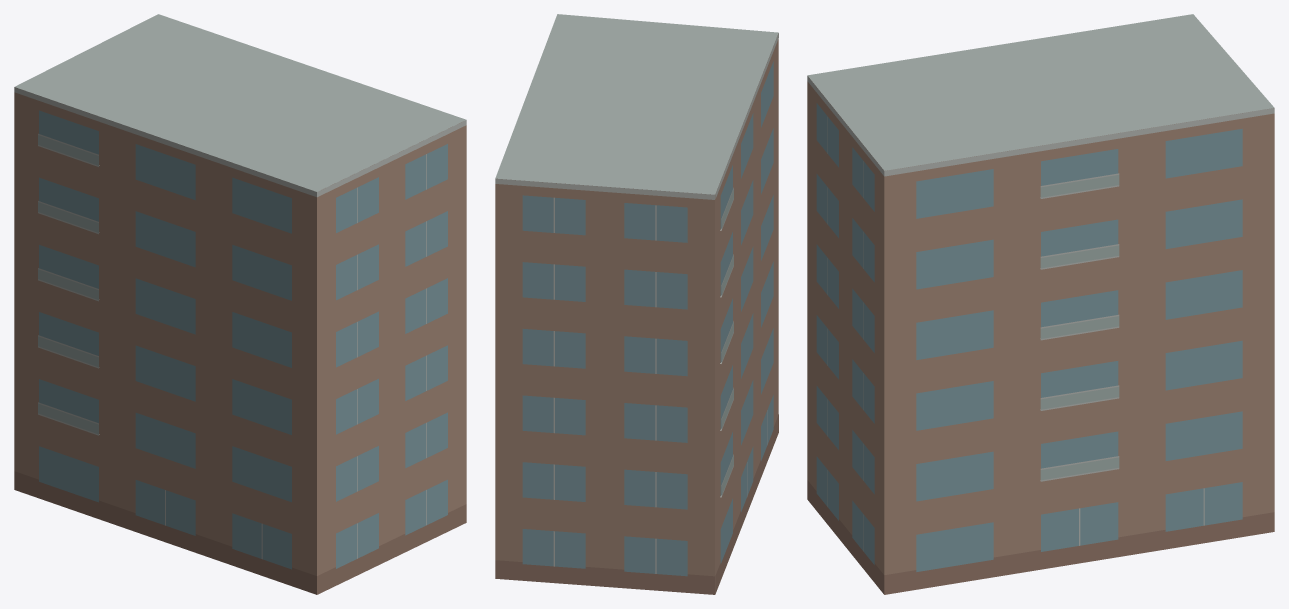
The model's file is survey-upis-32857766.glb.
The picture shows the model from 3 angles, left to right: view 1: azimuth 30°, elevation 25°; view 2: azimuth 150°, elevation 25°; view 3: azimuth 270°, elevation 25°; orthographic projection. The views are drawn at different scales.
Parts seen in each view (by area): view 1: survey-upis-32857766.tmp; view 2: survey-upis-32857766.tmp; view 3: survey-upis-32857766.tmp.
Part boxes in pixels (x1,y1,x2,y2): survey-upis-32857766.tmp: (14,14,466,594); survey-upis-32857766.tmp: (495,14,778,594); survey-upis-32857766.tmp: (807,14,1274,594).
Size of the model in its own units: 14.7 by 18.5 by 18.49.
